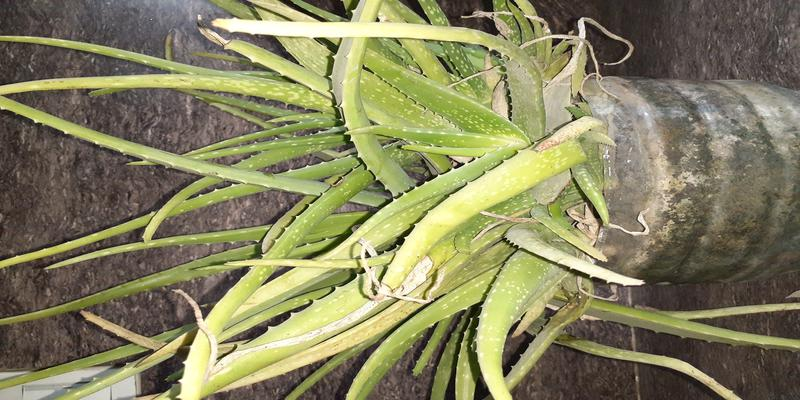Aloevera: (180, 10, 611, 397)
